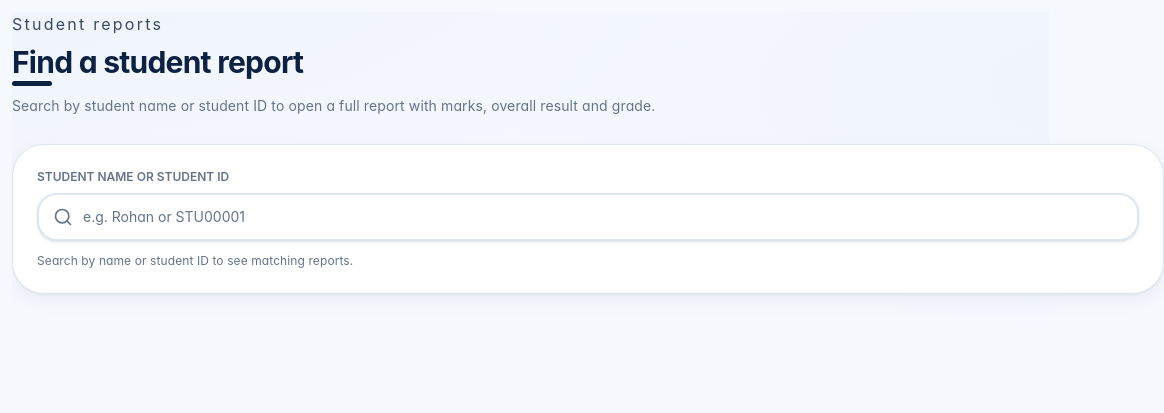
Test: StudentReportFinder › shows an error state and can retry
The width and height of the screenshot is (1164, 413).
Type "Rohan" into the search field labelled "Student name or student ID" at (588, 217), box [37,193,1139,241]
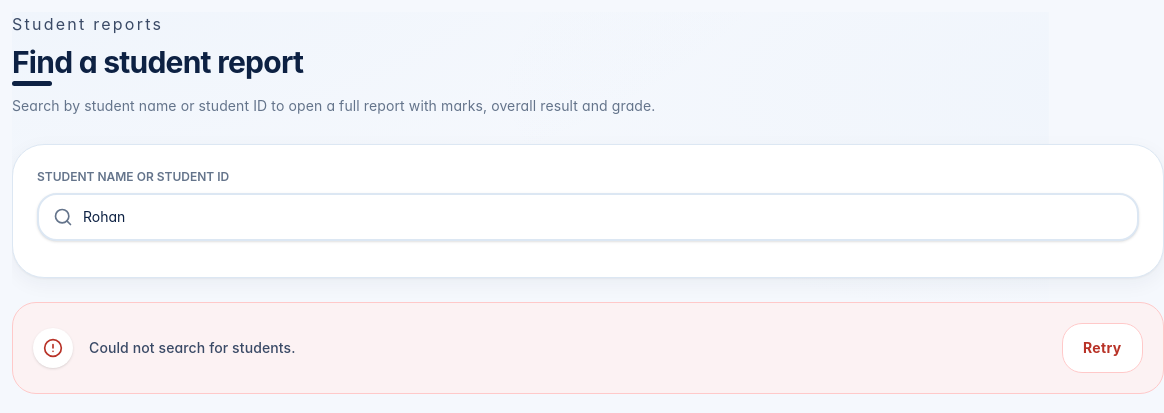
Expected: the text "Could not search for students." is shown, [89,339,296,356]
Click the button "Retry" at (1103, 348), box [1062,323,1143,373]
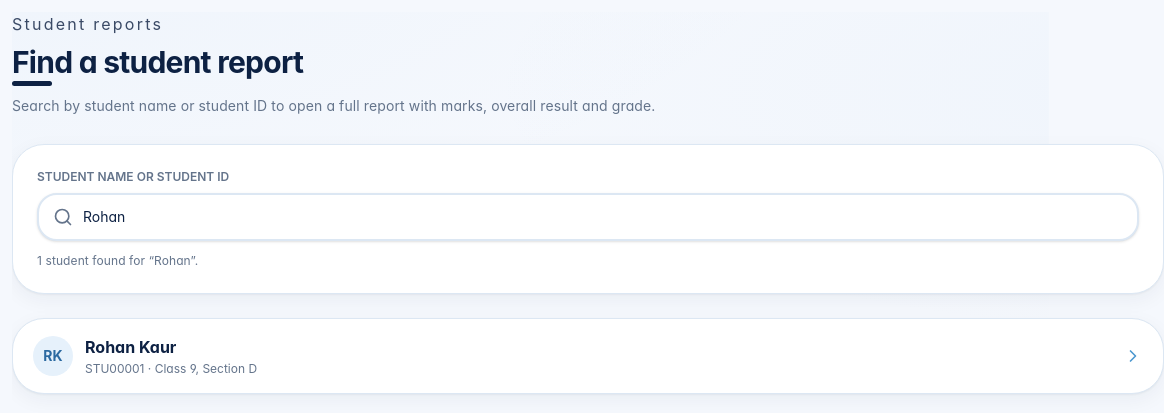
Expected: the link "RK Rohan Kaur STU00001 · Class 9, Section D" is shown, [33,336,1143,376]
